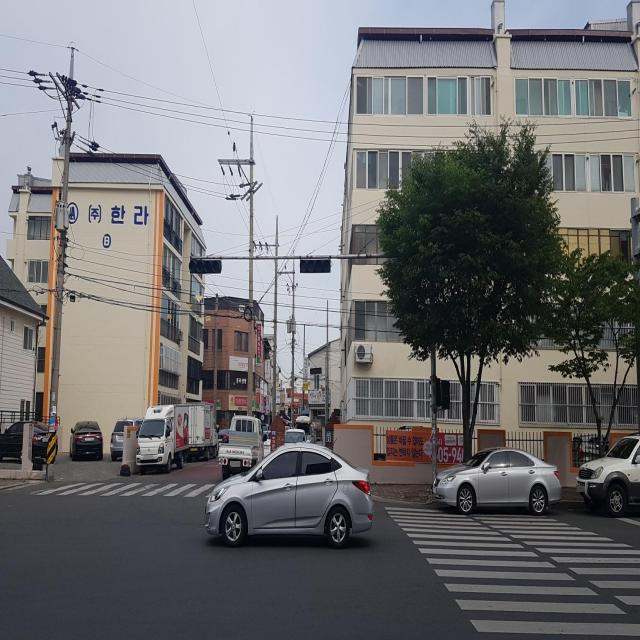횡단보도: (383, 504, 640, 638), (0, 478, 216, 504)
